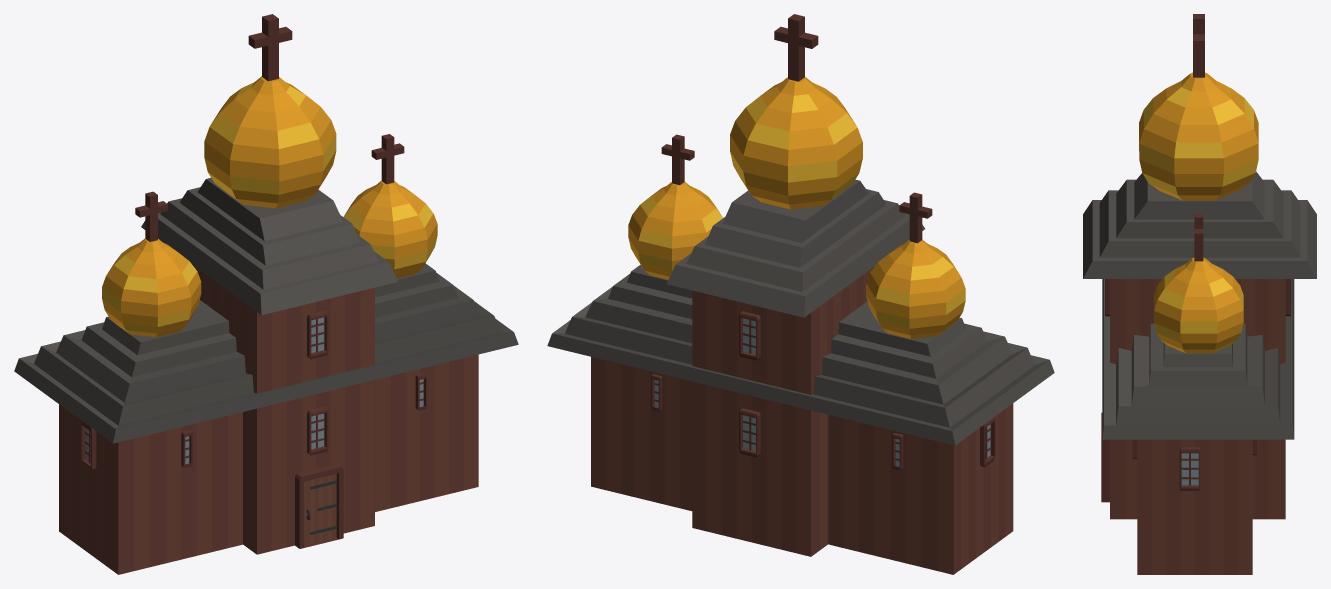
Rendered from church_lowpoly.fbx.
3 renders of one model, left to right at view 1: azimuth 30°, elevation 25°; view 2: azimuth 150°, elevation 25°; view 3: azimuth 270°, elevation 25°, orthographic. The views are drawn at different scales.
Visible parts, largest first — view 1: church; view 2: church; view 3: church.
Boxes of the visible parts, bbox=[...] form: church: bbox=[14, 14, 518, 574]; church: bbox=[547, 14, 1054, 574]; church: bbox=[1083, 14, 1316, 574].
Bounding box in the file's own units: 517 × 596 × 266.
